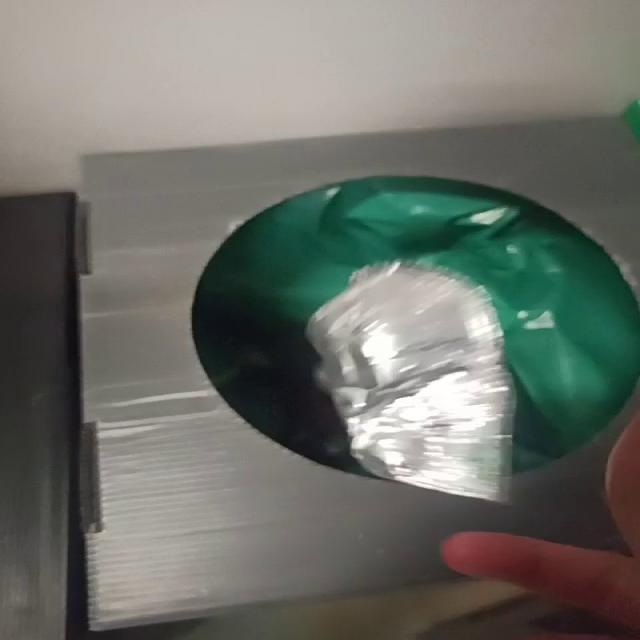bin: (80, 119, 639, 632)
metal: (307, 263, 516, 503)
